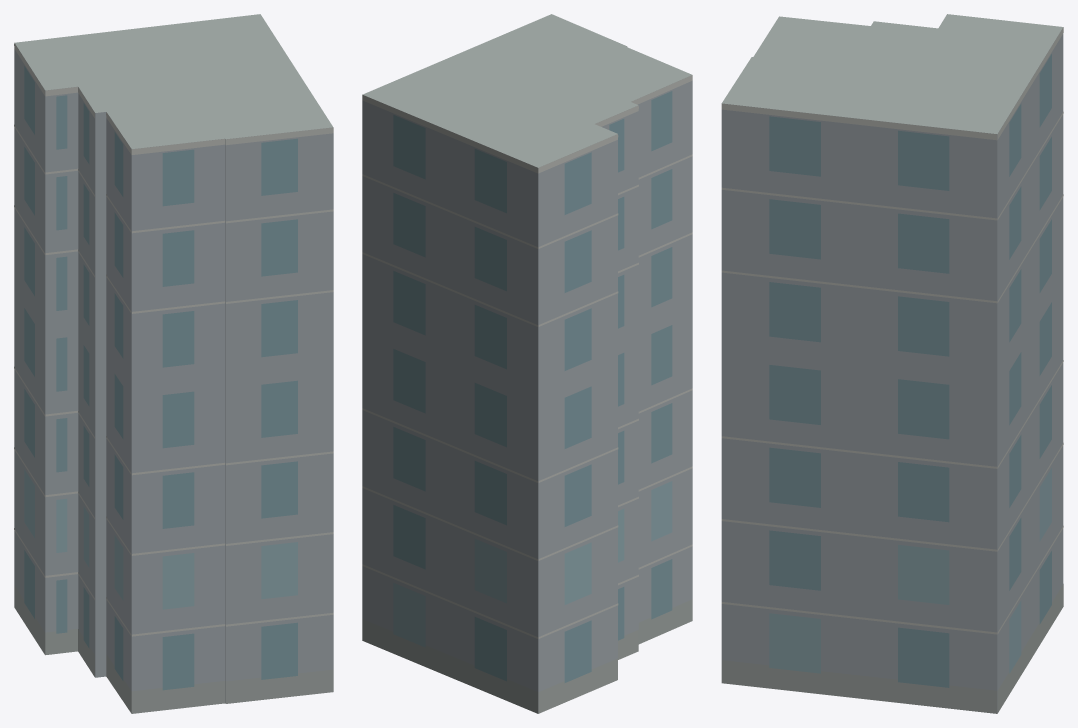
The model's file is survey-upis-33011451.glb.
3 renders of one model, left to right at view 1: azimuth 30°, elevation 25°; view 2: azimuth 150°, elevation 25°; view 3: azimuth 270°, elevation 25°, orthographic. The views are drawn at different scales.
Parts seen in each view (by area): view 1: survey-upis-33011451.tmp; view 2: survey-upis-33011451.tmp; view 3: survey-upis-33011451.tmp.
Part boxes in pixels (x1,y1,x2,y2): survey-upis-33011451.tmp: (14, 14, 333, 713); survey-upis-33011451.tmp: (362, 14, 692, 713); survey-upis-33011451.tmp: (721, 14, 1063, 713).
Bounding box in the file's own units: 10.27 × 23.05 × 12.34.
